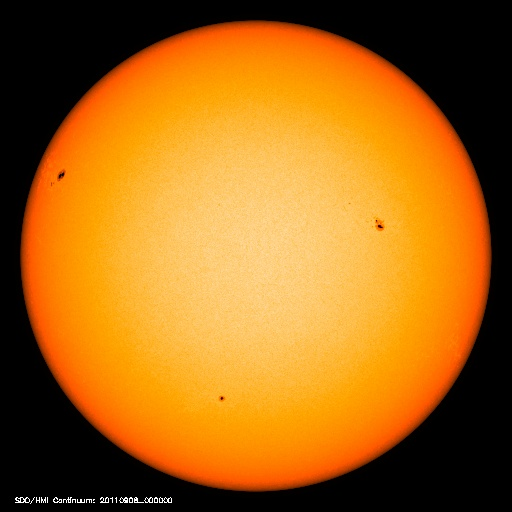sunspot: (360, 208, 398, 243), (43, 167, 75, 189), (210, 388, 235, 410)
